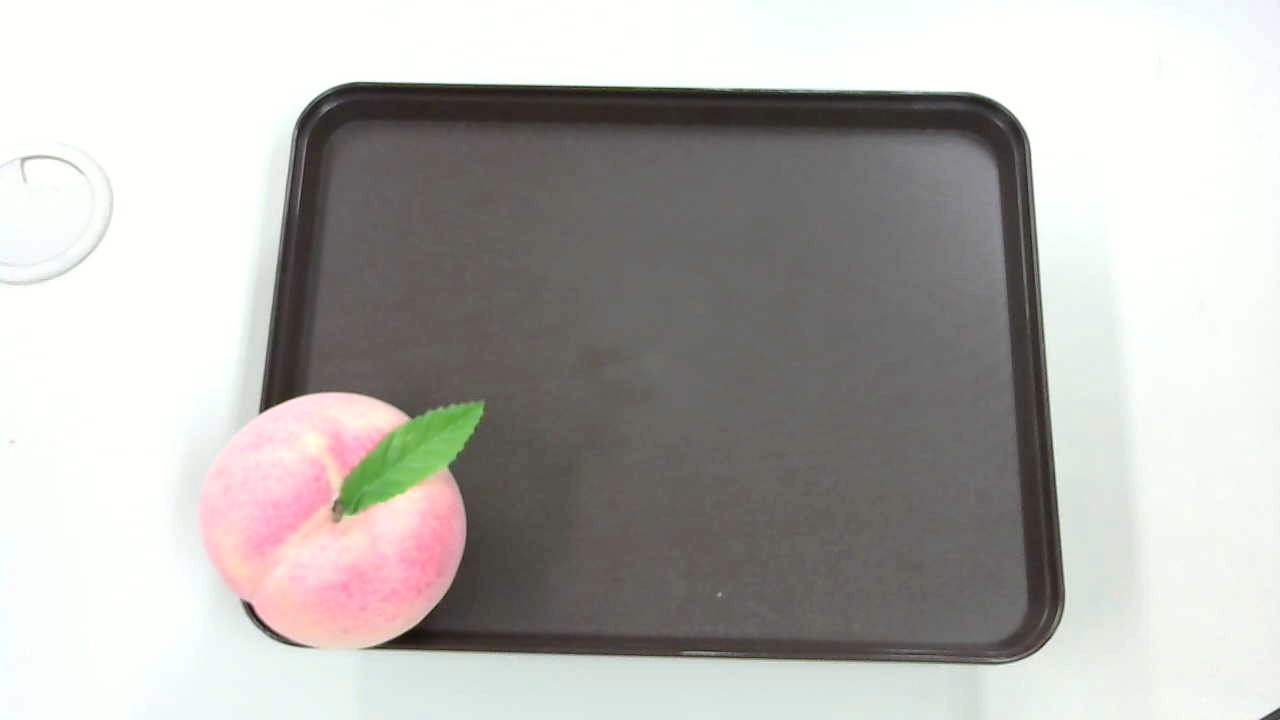peach: (196, 390, 493, 649)
